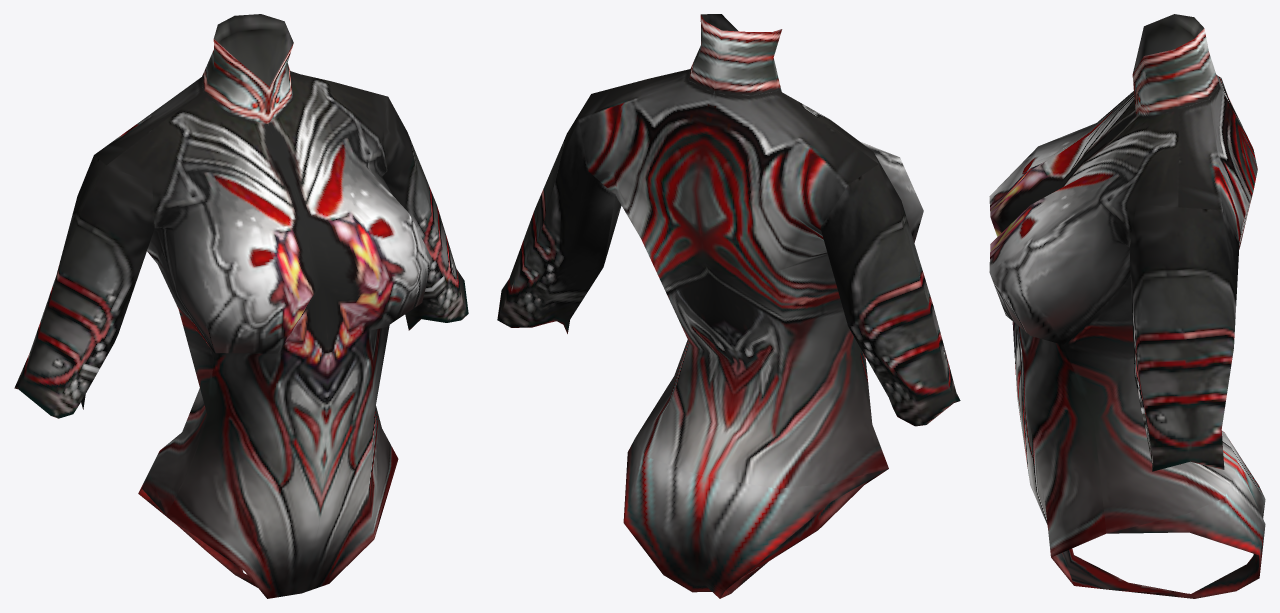
The model's file is nvcike_6_shangyi.FBX.
The picture shows the model from 3 angles, left to right: view 1: azimuth 30°, elevation 25°; view 2: azimuth 150°, elevation 25°; view 3: azimuth 270°, elevation 25°; orthographic projection. The views are drawn at different scales.
Visible parts, largest first — view 1: Mesh; view 2: Mesh; view 3: Mesh.
Part boxes in pixels (<box>): Mesh: <box>14,14,468,598</box>; Mesh: <box>497,14,960,598</box>; Mesh: <box>989,14,1265,598</box>.
Bounding box in the file's own units: 55.59 × 66.09 × 29.07.
Materials: 1 (1 with a texture image).
